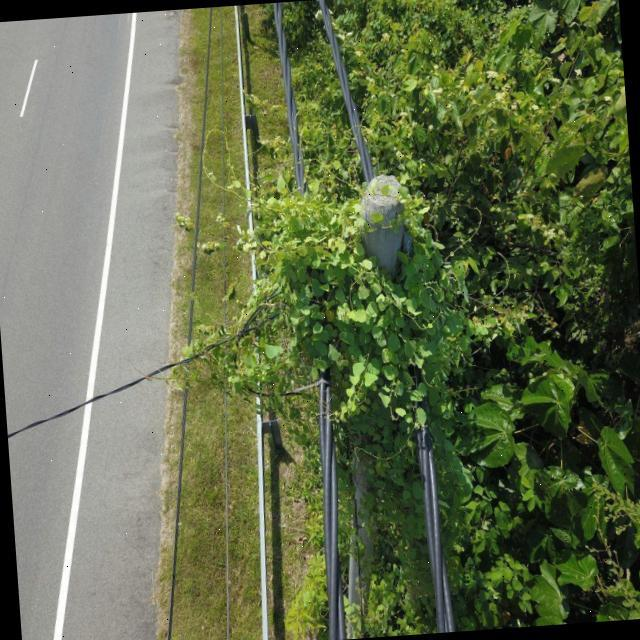critical vegetation: (145, 158, 456, 439)
